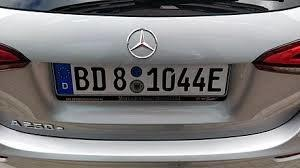license-plates: (54, 64, 230, 97)
